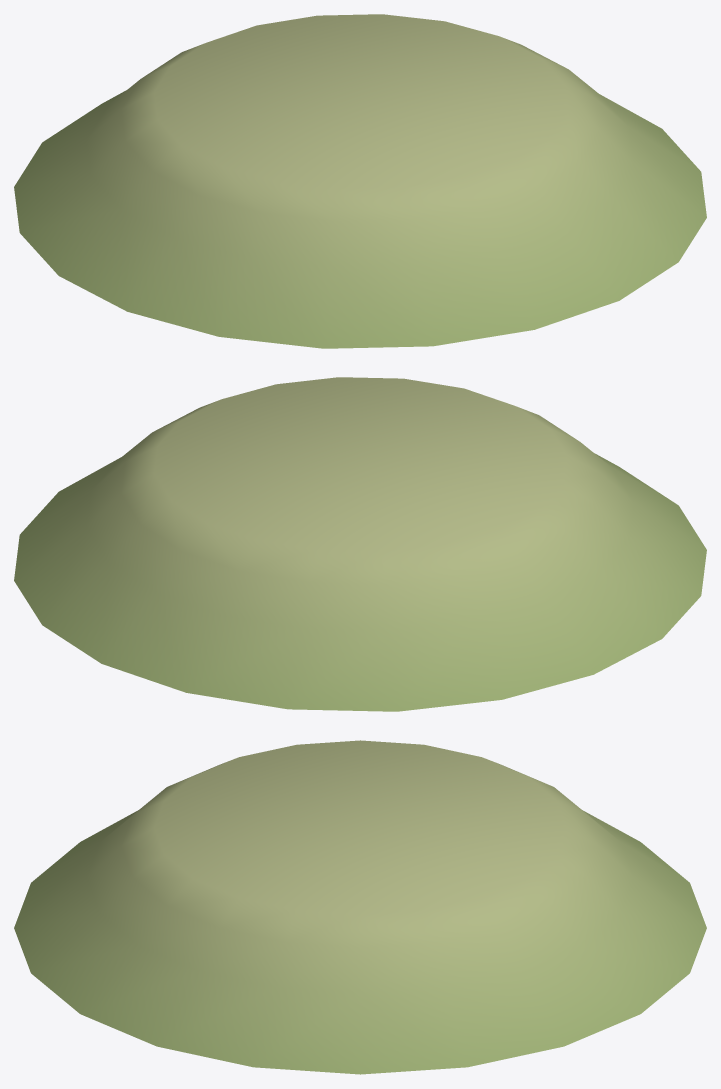
File: hill-flat.glb
3 renders of one model, top to bottom at view 1: azimuth 30°, elevation 25°; view 2: azimuth 150°, elevation 25°; view 3: azimuth 270°, elevation 25°, orthographic.
Visible parts, largest first — view 1: hill-flat; view 2: hill-flat; view 3: hill-flat.
Part boxes in pixels (<box>): hill-flat: <box>14,14,706,348</box>; hill-flat: <box>14,377,706,711</box>; hill-flat: <box>14,740,706,1074</box>.
Bounding box in the file's own units: 1 × 0.16 × 1.
